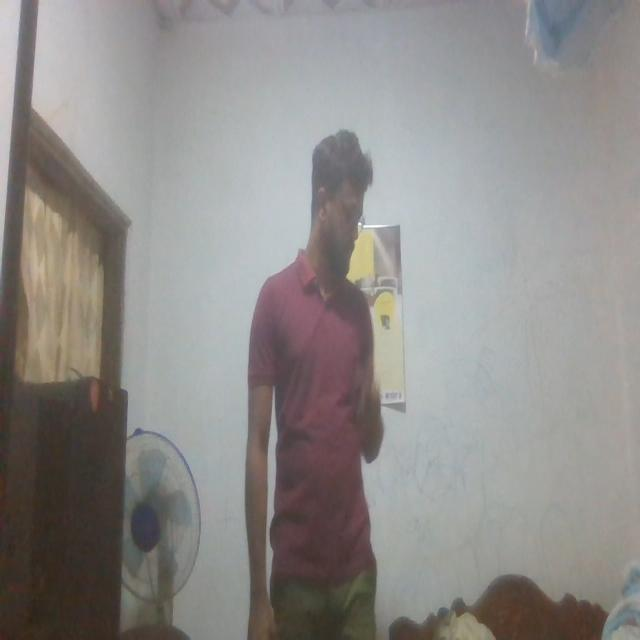Person: (243, 127, 391, 640)
